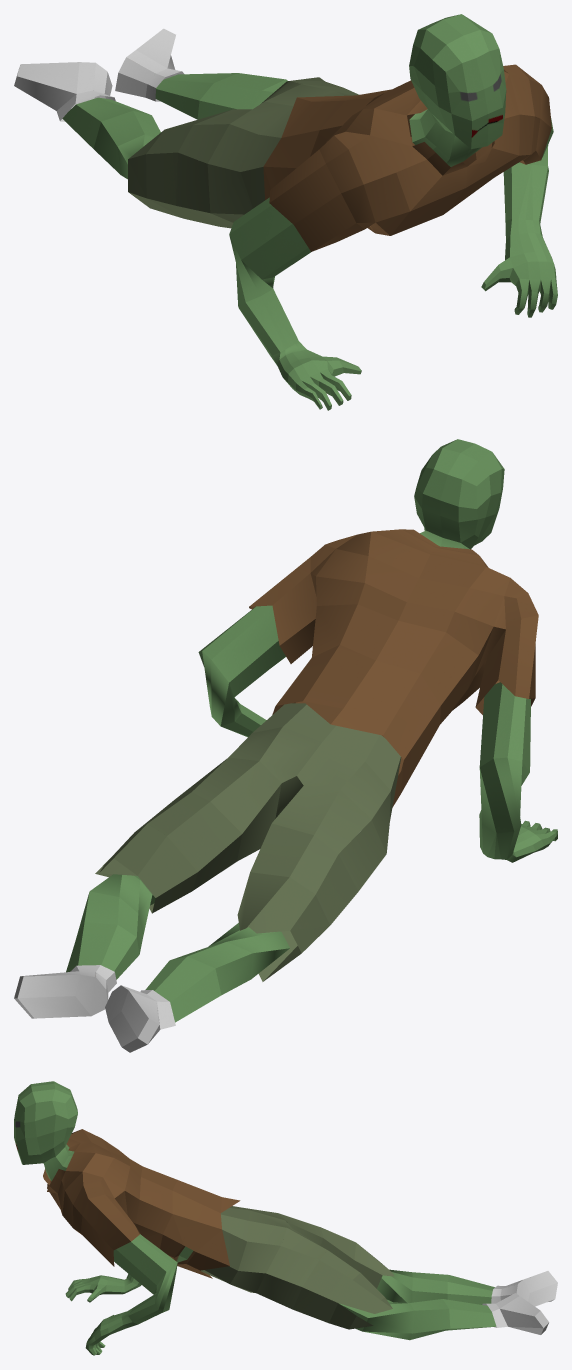
Rendered from ZombieCrawl(46).obj.
3 renders of one model, top to bottom at view 1: azimuth 30°, elevation 25°; view 2: azimuth 150°, elevation 25°; view 3: azimuth 270°, elevation 25°, orthographic. The views are drawn at different scales.
Visible parts, largest first — view 1: Object001; view 2: Object001; view 3: Object001.
Part boxes in pixels (bbox=[...]): Object001: bbox=[14, 14, 557, 410]; Object001: bbox=[14, 439, 557, 1052]; Object001: bbox=[14, 1081, 557, 1355].
Bounding box in the file's own units: 25.56 × 27.77 × 55.51.
